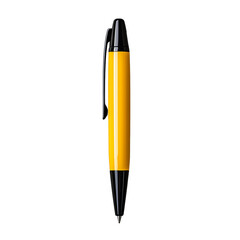pen: (93, 12, 144, 231)
